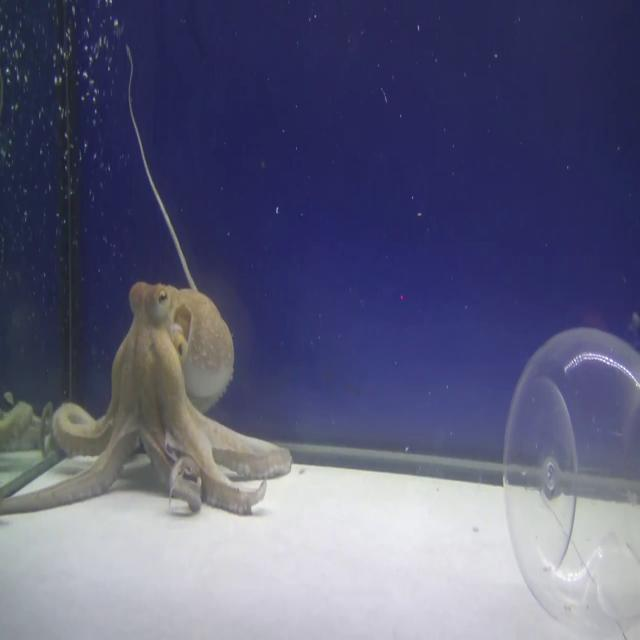octopus: (0, 278, 295, 518)
